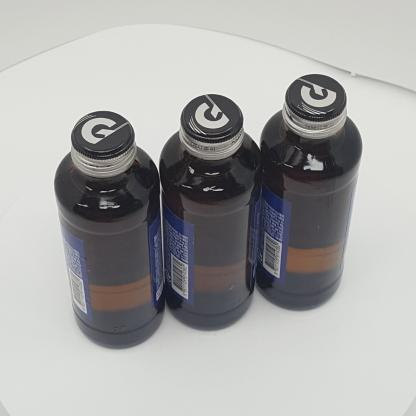---------------150ML: (54, 111, 165, 349), (255, 74, 362, 310), (159, 94, 262, 330)
